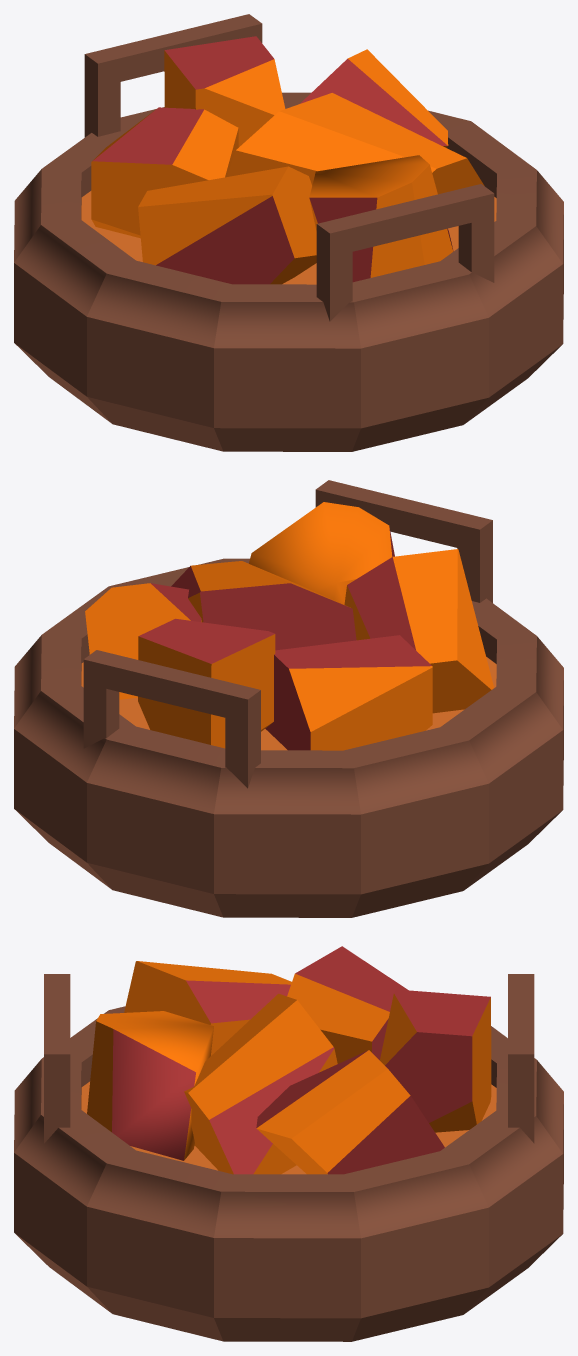
The model's file is iron_ore_bascket_LOW.fbx.
The picture shows the model from 3 angles, top to bottom: view 1: azimuth 30°, elevation 25°; view 2: azimuth 150°, elevation 25°; view 3: azimuth 270°, elevation 25°; orthographic projection.
Parts seen in each view (by area): view 1: iron_ore.001; view 2: iron_ore.001; view 3: iron_ore.001.
Boxes of the visible parts, x1=… form: iron_ore.001: x1=14, y1=14, x2=563, y2=451; iron_ore.001: x1=14, y1=480, x2=563, y2=917; iron_ore.001: x1=14, y1=946, x2=563, y2=1341.
Size of the model in its own units: 201 by 96.33 by 201.
